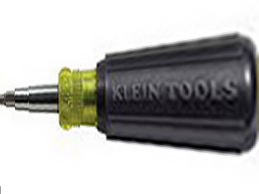screwdriver: (7, 29, 259, 160)
